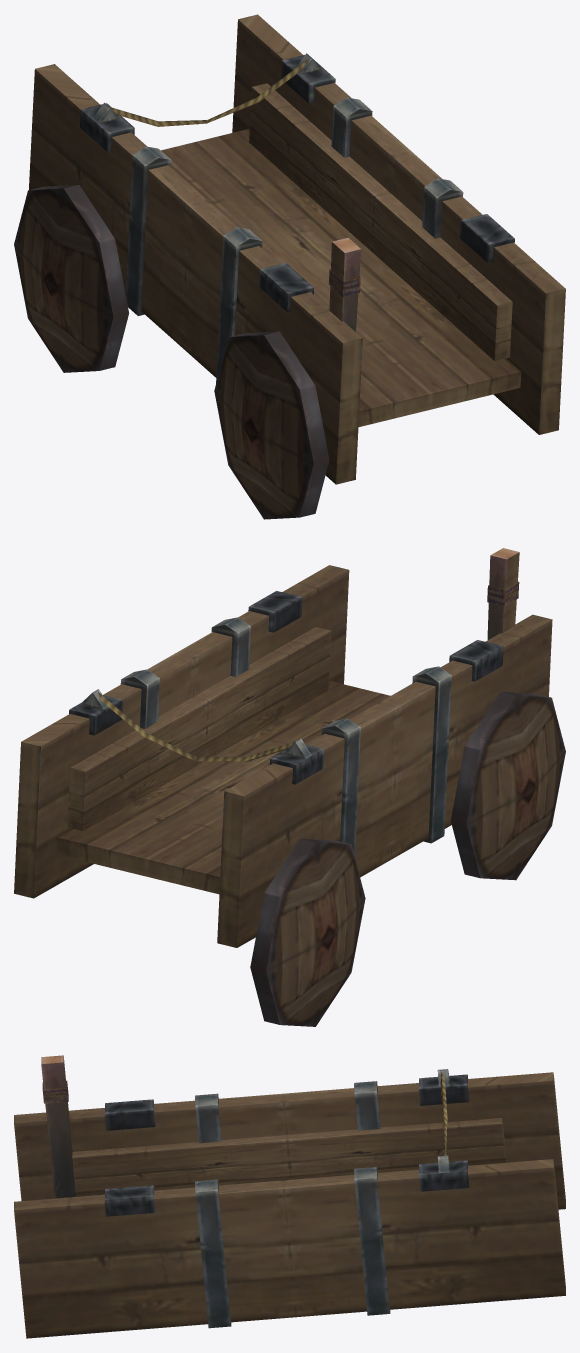
Rendered from wujian02.FBX.
3 renders of one model, top to bottom at view 1: azimuth 30°, elevation 25°; view 2: azimuth 150°, elevation 25°; view 3: azimuth 270°, elevation 25°, orthographic. The views are drawn at different scales.
Parts seen in each view (by area): view 1: Object01; view 2: Object01; view 3: Object01.
Boxes of the visible parts, x1=… form: Object01: x1=14, y1=14, x2=565, y2=519; Object01: x1=14, y1=548, x2=565, y2=1026; Object01: x1=14, y1=1055, x2=565, y2=1338.
Size of the model in its own units: 107 by 114 by 225.
